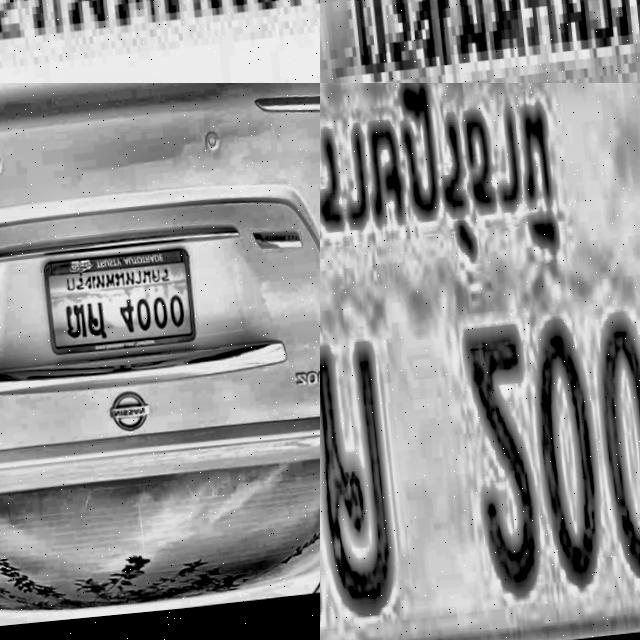license-plate: (320, 83, 640, 640), (0, 0, 320, 83), (320, 0, 640, 83), (36, 249, 192, 362)
